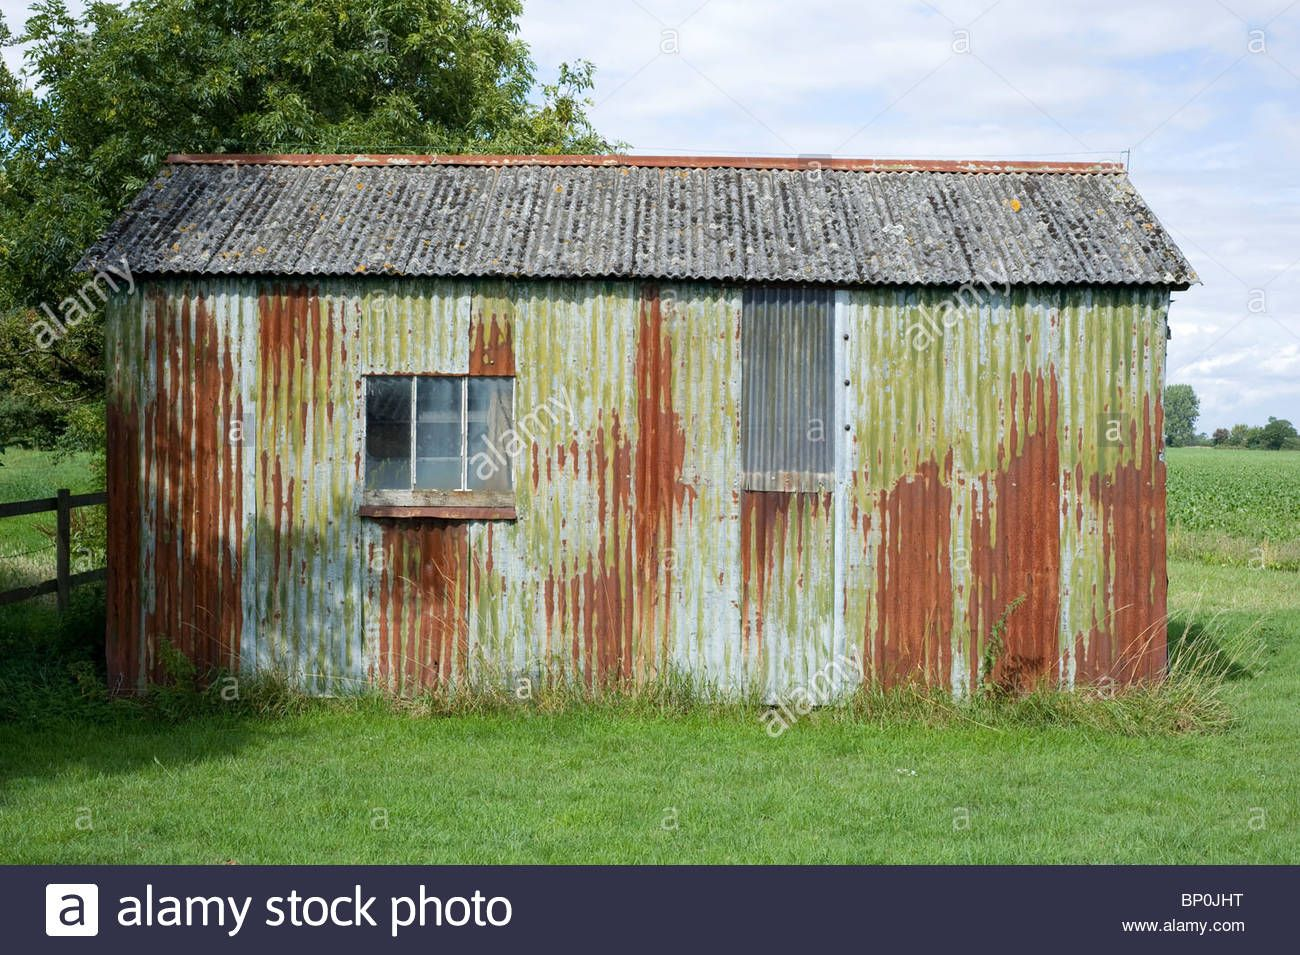Tin-shade House: (79, 136, 1220, 748)
